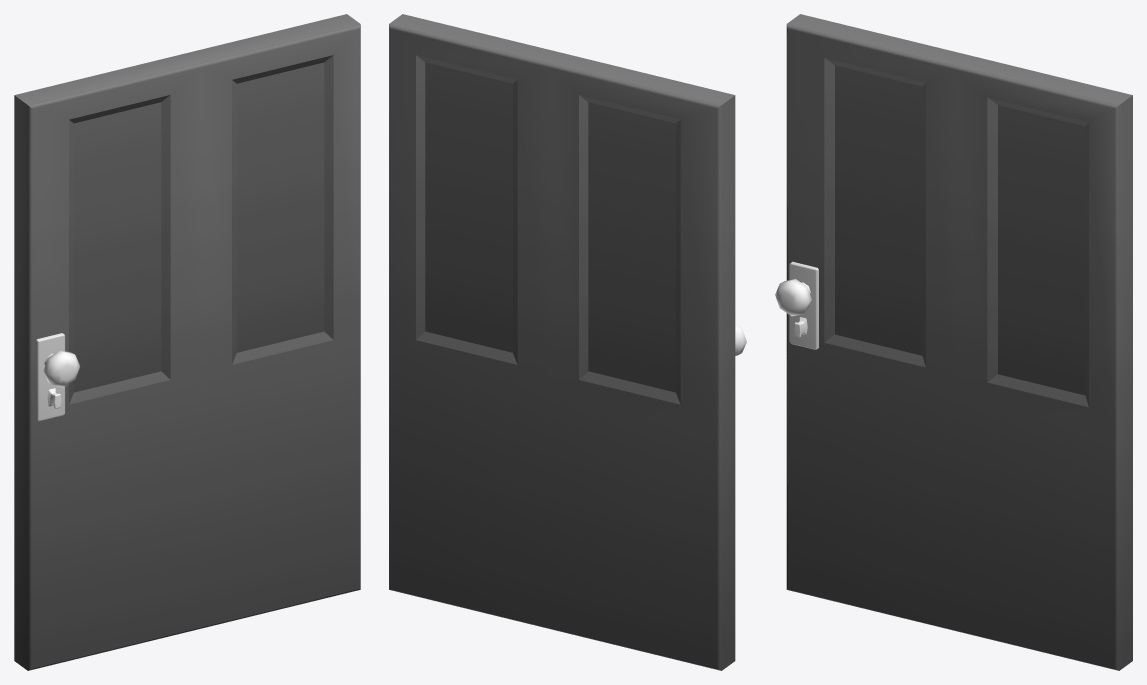
Rendered from Door.fbx.
3 views of the same model, side by side, from view 1: azimuth 30°, elevation 25°; view 2: azimuth 150°, elevation 25°; view 3: azimuth 330°, elevation 25° (orthographic).
Visible parts, largest first — view 1: Door; view 2: Door; view 3: Door.
Boxes of the visible parts, x1,y1,x2,y2 form: Door: (14, 14, 360, 670); Door: (389, 14, 746, 670); Door: (775, 14, 1132, 670).
Bounding box in the file's own units: 122 × 199 × 22.
